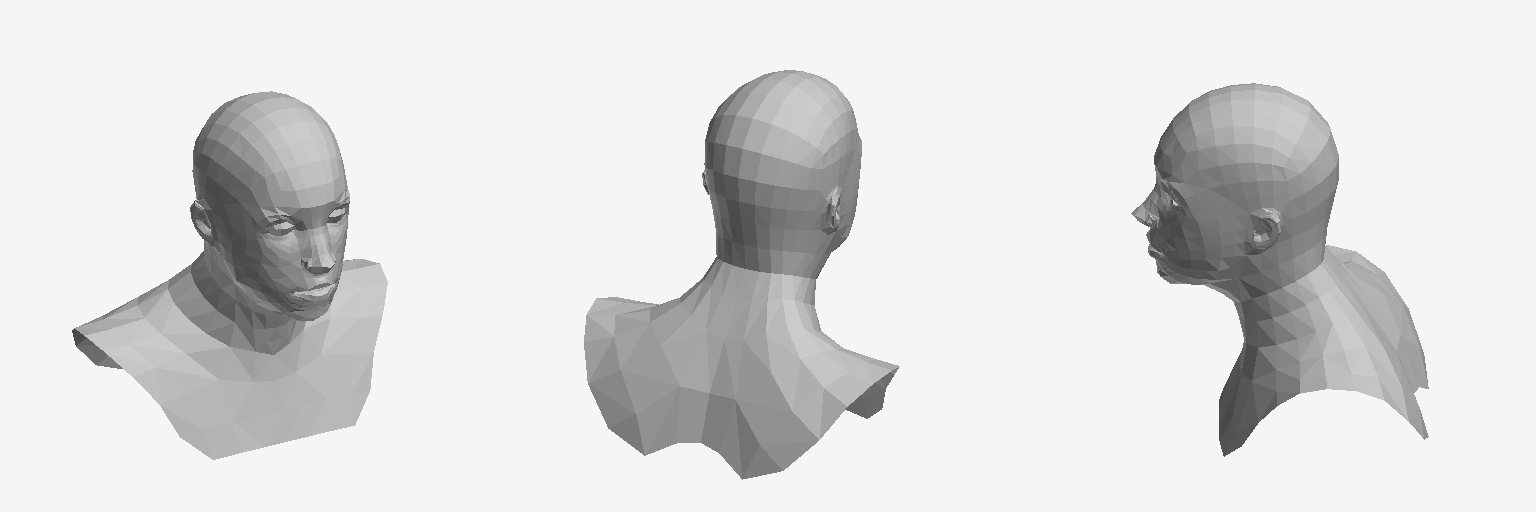
Rendered from Head.obj.
3 views of the same model, side by side, from view 1: azimuth 30°, elevation 25°; view 2: azimuth 150°, elevation 25°; view 3: azimuth 270°, elevation 25° (orthographic).
Visible parts, largest first — view 1: Head; view 2: Head; view 3: Head.
Part boxes in pixels (bbox=[...]): Head: bbox=[72, 91, 387, 459]; Head: bbox=[584, 70, 899, 479]; Head: bbox=[1131, 83, 1428, 456].
Size of the model in its own units: 449 by 482 by 391.